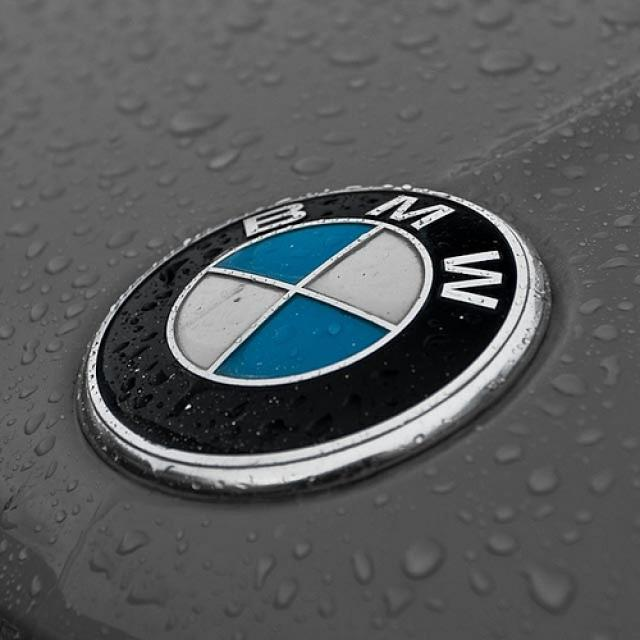bmw: (84, 187, 534, 471)
